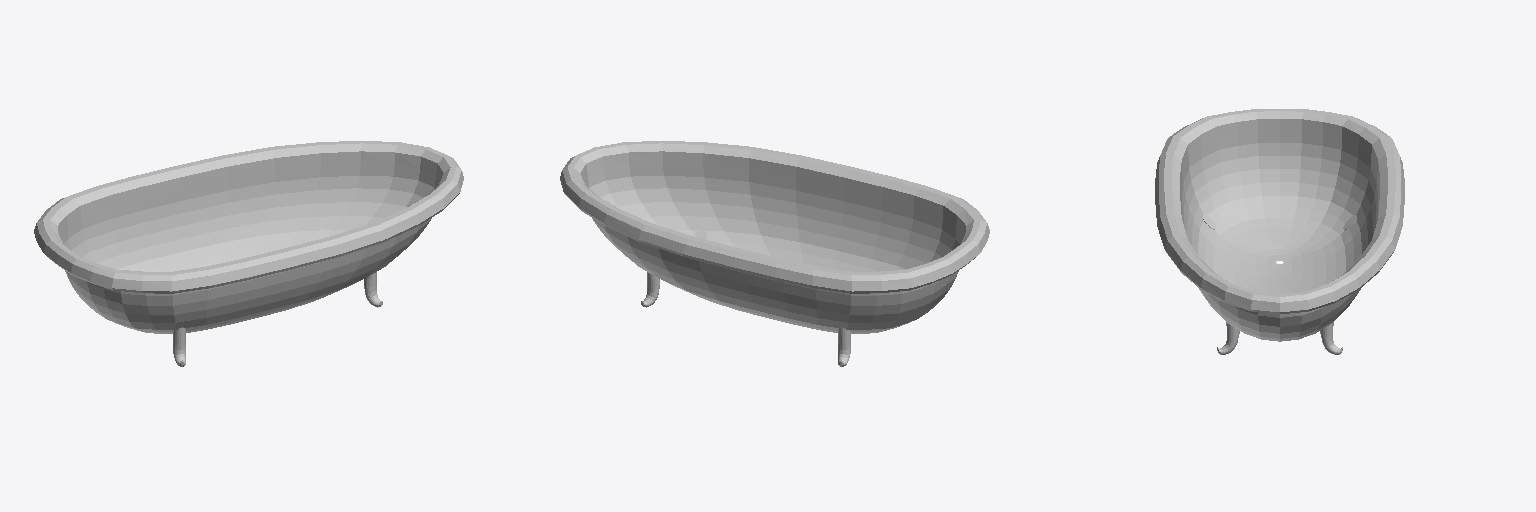
Rendered from AirshipBath.obj.
3 views of the same model, side by side, from view 1: azimuth 30°, elevation 25°; view 2: azimuth 150°, elevation 25°; view 3: azimuth 270°, elevation 25° (orthographic).
Visible parts, largest first — view 1: AirShipBasket1 BathBody1; view 2: AirShipBasket1 BathBody1; view 3: AirShipBasket1 BathBody1.
Part boxes in pixels (bbox=[...]): AirShipBasket1 BathBody1: bbox=[34, 141, 463, 333]; AirShipBasket1 BathBody1: bbox=[560, 141, 989, 333]; AirShipBasket1 BathBody1: bbox=[1155, 109, 1404, 341].
Size of the model in its own units: 29.55 by 7.53 by 15.99.